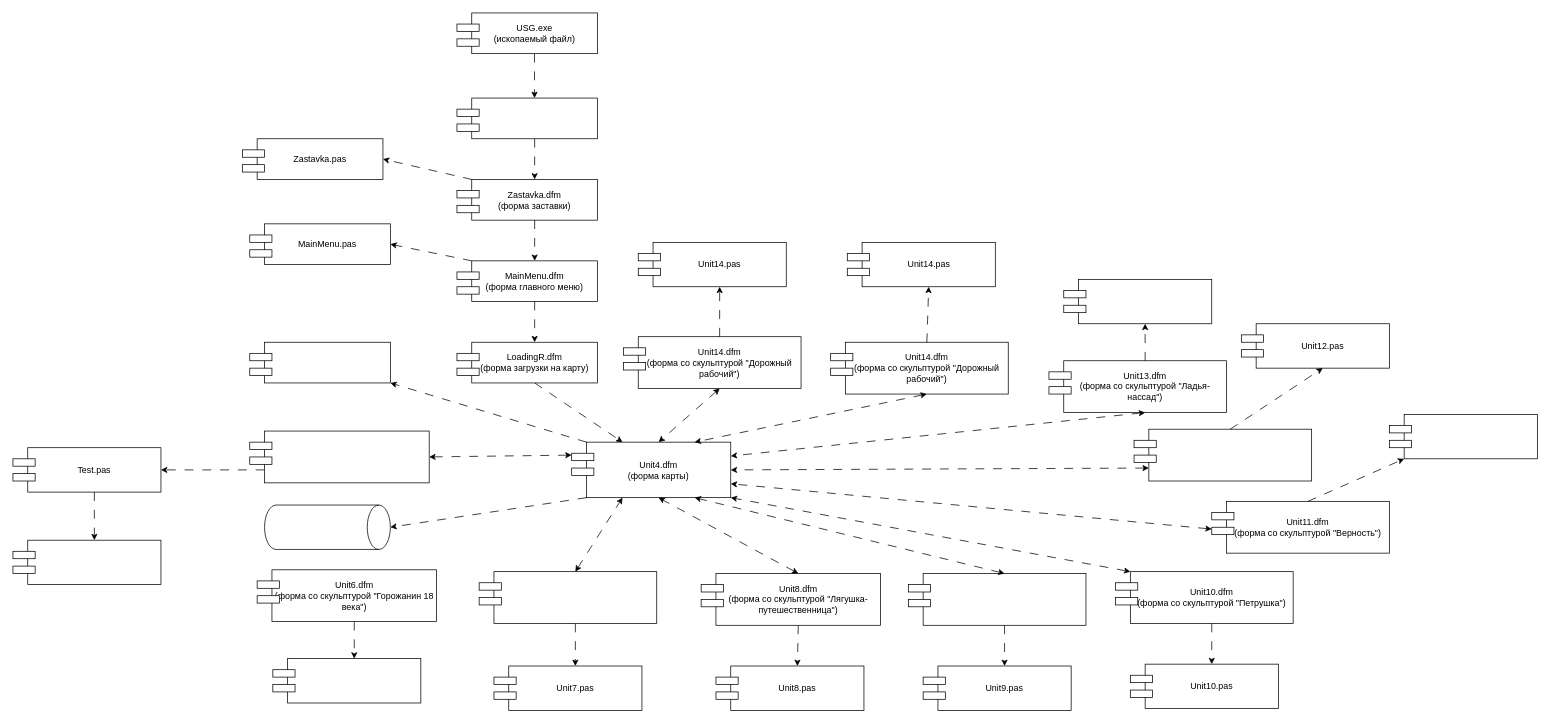
Image size: 1550x724. Some labels were removed from this diagram. The shapes that lost their labels are listed below. From the top down, each one's box as (x1, y1, x2, y2) in pixels, then its label:
(471, 97, 598, 139): USG.dpr (файл проекта)
(1078, 279, 1212, 324): Unit13.pas
(264, 342, 390, 383): Unit4.pas
(264, 430, 429, 483): Test.dfm (форма с тестом)
(1148, 428, 1312, 481): Unit12.dfm (форма со скульптурой "Колонна-маяк")
(1403, 414, 1537, 459): Unit11.pas
(264, 504, 390, 549): USG.html (справка)
(27, 539, 161, 585): Test.txt
(493, 571, 657, 623): Unit7.dfm (форма со скульптурой "Диалог")
(922, 573, 1086, 625): Unit9.dfm (форма со скульптурой "Почтовый ящик")
(287, 658, 421, 703): Unit6.pas
